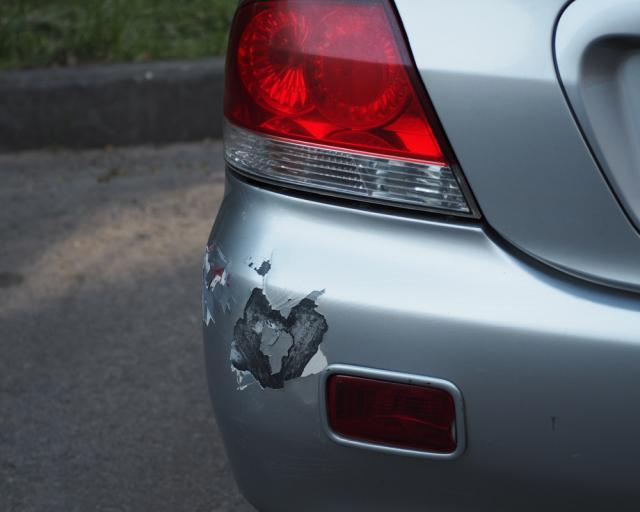scratch: (198, 238, 334, 395)
